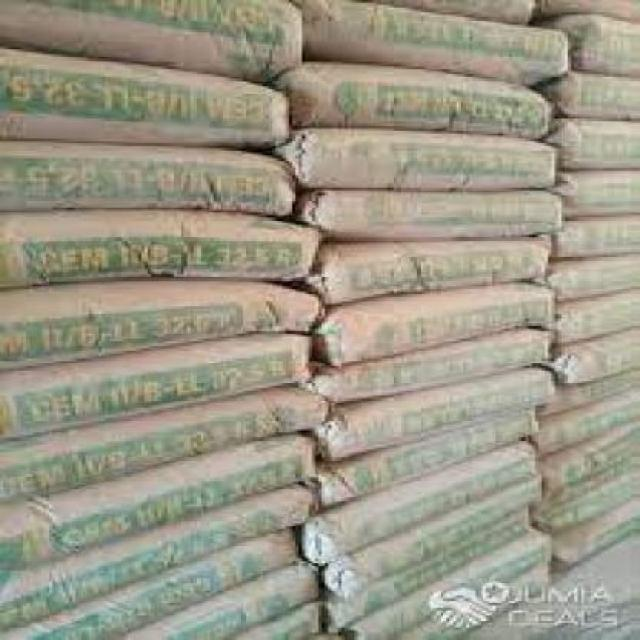gunny_bag: (2, 488, 311, 636), (0, 433, 319, 573), (0, 387, 337, 509), (2, 338, 313, 446), (4, 535, 306, 640), (0, 44, 291, 148), (0, 278, 326, 367), (306, 445, 538, 563), (328, 471, 547, 596), (7, 209, 326, 290), (335, 509, 543, 628), (311, 369, 567, 465), (346, 527, 560, 640), (269, 59, 558, 140), (0, 0, 306, 76), (7, 140, 298, 217), (313, 413, 536, 511), (313, 283, 558, 372), (306, 2, 569, 84), (326, 325, 547, 402), (313, 237, 556, 306), (112, 565, 326, 639), (300, 128, 562, 186), (302, 188, 567, 244), (394, 561, 556, 640), (545, 417, 640, 491), (551, 458, 639, 532), (543, 501, 640, 567), (545, 394, 640, 458), (543, 288, 639, 351), (532, 120, 640, 173), (532, 71, 640, 119), (558, 206, 640, 265), (538, 250, 640, 297), (545, 328, 640, 377), (567, 18, 640, 79), (556, 166, 640, 217), (551, 367, 640, 412), (234, 603, 326, 639)
